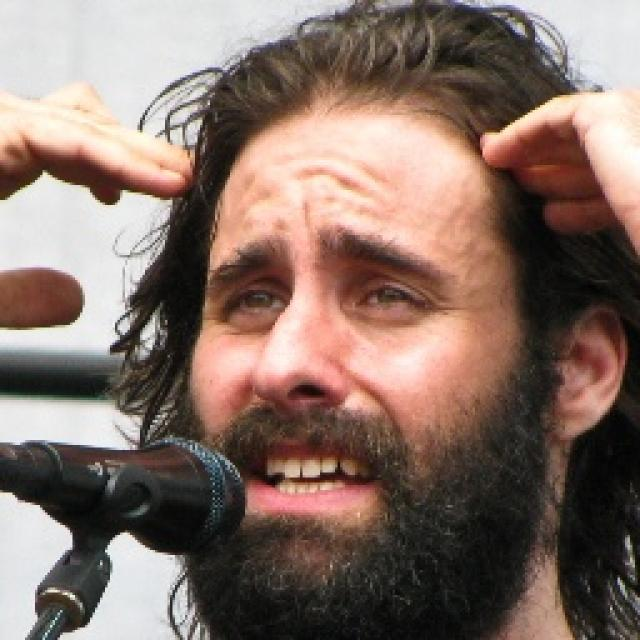earlobe: (546, 298, 627, 446)
